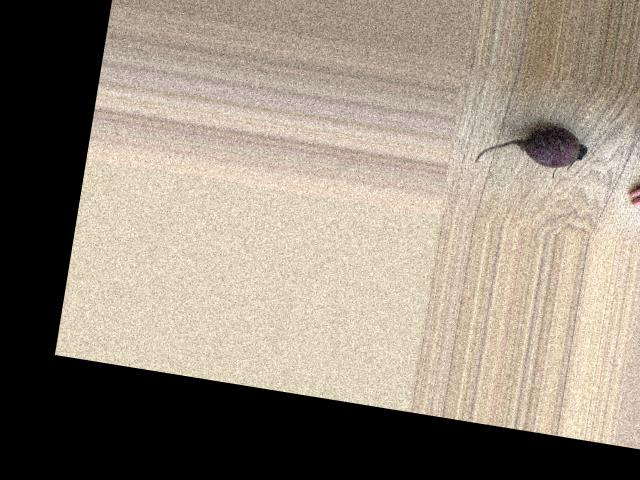beet: (473, 115, 588, 182)
